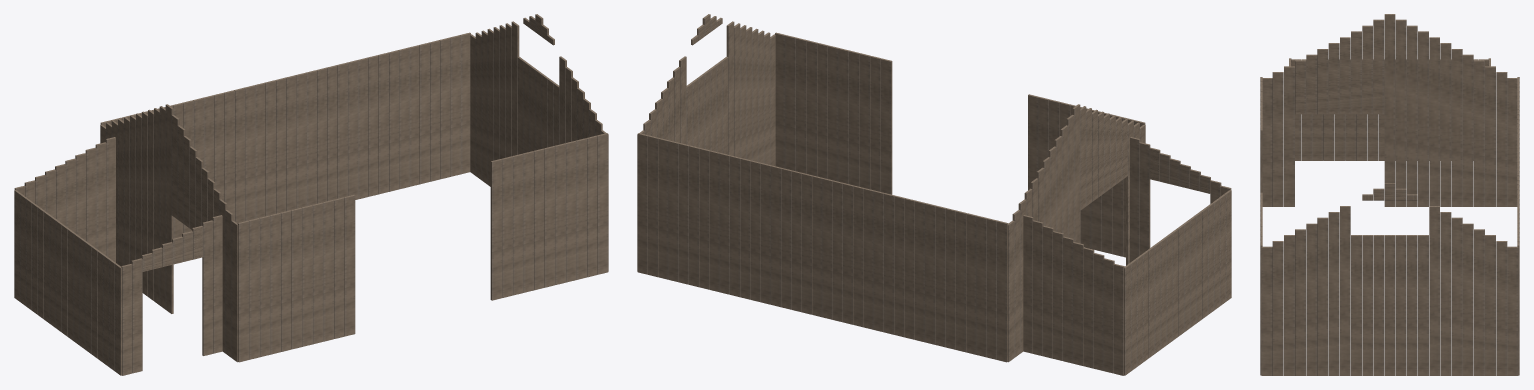
File: BW_StableA01_Shell.fbx
3 renders of one model, left to right at view 1: azimuth 30°, elevation 25°; view 2: azimuth 150°, elevation 25°; view 3: azimuth 270°, elevation 25°, orthographic. The views are drawn at different scales.
Parts seen in each view (by area): view 1: BW_StableA01_Shell; view 2: BW_StableA01_Shell; view 3: BW_StableA01_Shell.
Part boxes in pixels (x1=…): BW_StableA01_Shell: x1=14, y1=14, x2=608, y2=375; BW_StableA01_Shell: x1=637, y1=14, x2=1231, y2=375; BW_StableA01_Shell: x1=1260, y1=14, x2=1519, y2=375.
Bounding box in the file's own units: 10.74 × 4.46 × 5.45.
